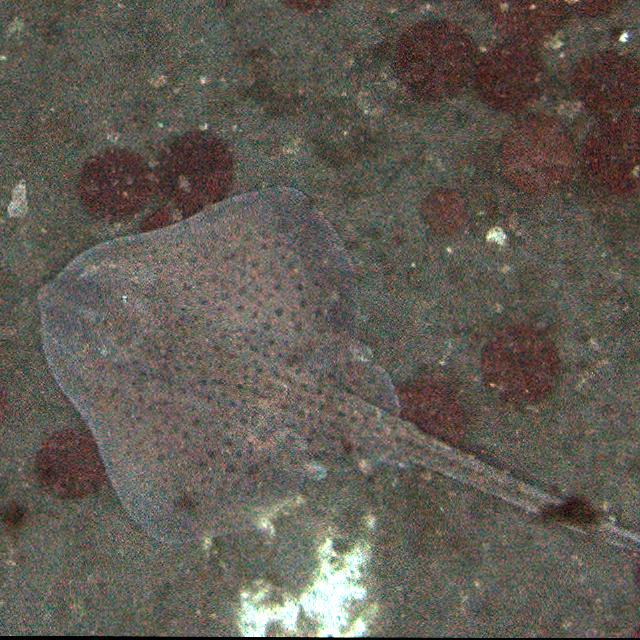skate: (37, 179, 624, 550)
